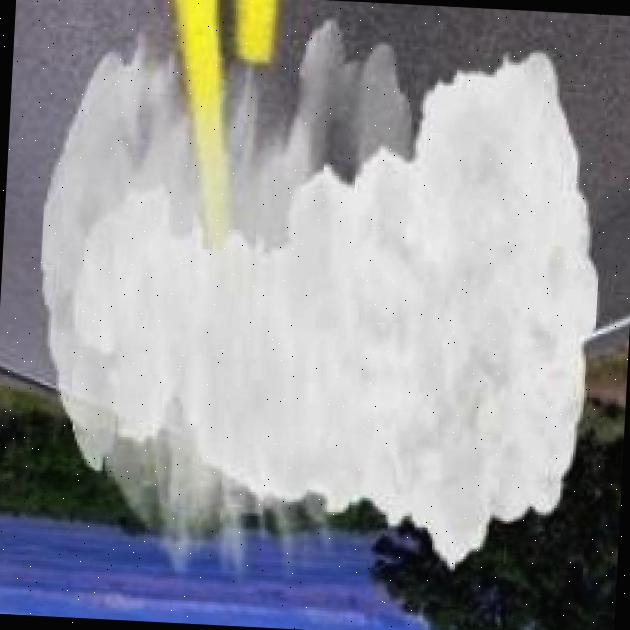smoke: (24, 4, 613, 601)
